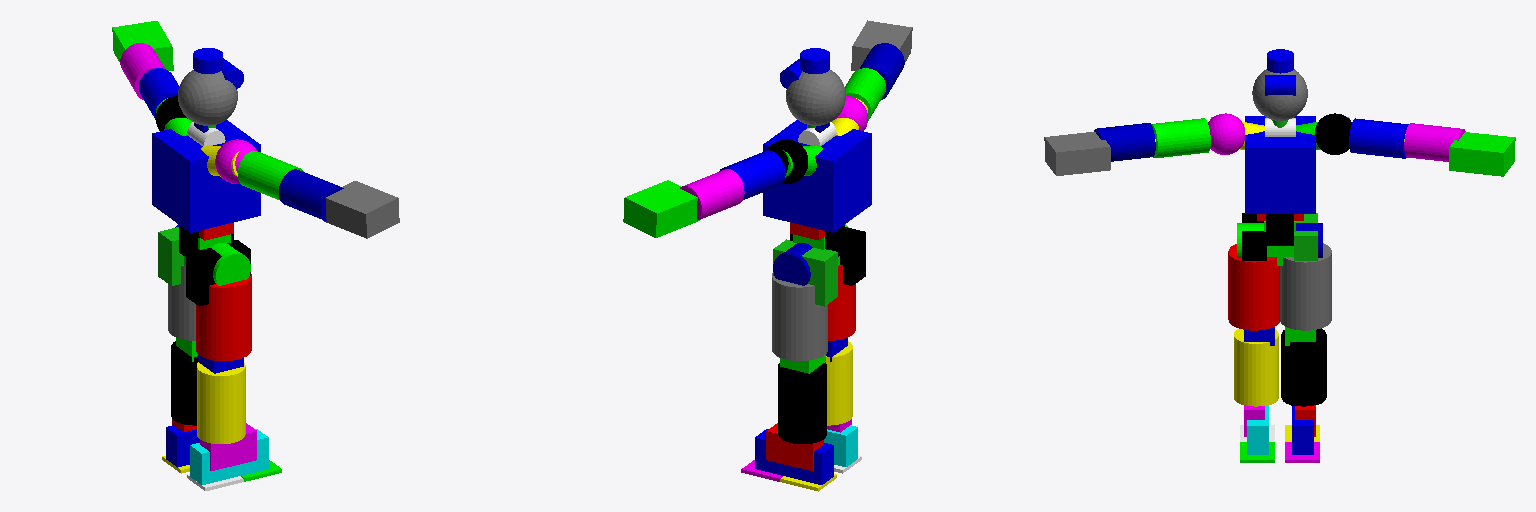
--- What the picture shows (computed from the rendered views, not written in the file) ---
Views: 3 orthographic renders of the robot side by side, from view 1: azimuth 30°, elevation 25°; view 2: azimuth 150°, elevation 25°; view 3: azimuth 270°, elevation 25°.
Model stickBot with 48 links and 47 joints (34 revolute, 13 fixed), rooted at root_link, posed all joints at 0 but 2 set to mid-range because 0 is outside their limits (r_shoulder_roll = 1.5, l_shoulder_roll = 1.5).
Links seen in each view (by area): view 1: chest, r_hip_3, r_lower_leg, r_hand, head, r_forearm, l_lower_leg, r_ankle_2, r_upper_arm, r_hip_2, l_hand, l_hip_3 (+10 smaller); view 2: chest, l_hip_3, l_lower_leg, l_hand, head, l_forearm, r_lower_leg, l_upper_arm, l_ankle_2, l_hip_2, r_hand, r_hip_3 (+10 smaller); view 3: chest, l_hip_3, r_hip_3, l_lower_leg, r_lower_leg, l_hand, r_hand, r_upper_arm, l_upper_arm, l_forearm, r_forearm, head (+9 smaller).
Link boxes in pixels (<box>): chest: <box>152,120,260,232</box>; r_hip_3: <box>196,274,251,360</box>; r_lower_leg: <box>197,362,245,443</box>; r_hand: <box>323,181,399,238</box>; head: <box>178,70,237,125</box>; r_forearm: <box>279,169,343,220</box>; l_lower_leg: <box>171,341,197,425</box>; r_ankle_2: <box>190,429,268,484</box>; r_upper_arm: <box>238,151,303,199</box>; r_hip_2: <box>186,240,250,306</box>; l_hand: <box>112,21,173,70</box>; l_hip_3: <box>168,265,195,340</box>; chest: <box>763,120,871,232</box>; l_hip_3: <box>772,273,827,360</box>; l_lower_leg: <box>778,362,826,443</box>; l_hand: <box>623,180,699,237</box>; head: <box>786,70,845,125</box>; l_forearm: <box>680,169,744,220</box>; r_lower_leg: <box>826,341,852,425</box>; l_upper_arm: <box>719,150,785,199</box>; l_ankle_2: <box>755,429,833,484</box>; l_hip_2: <box>773,239,837,306</box>; r_hand: <box>851,20,912,70</box>; r_hip_3: <box>828,265,855,340</box>; chest: <box>1245,116,1315,213</box>; l_hip_3: <box>1280,243,1331,330</box>; r_hip_3: <box>1228,244,1279,330</box>; l_lower_leg: <box>1281,328,1326,406</box>; r_lower_leg: <box>1234,329,1278,406</box>; l_hand: <box>1449,132,1515,176</box>; r_hand: <box>1044,132,1110,175</box>; r_upper_arm: <box>1151,118,1210,157</box>; l_upper_arm: <box>1349,118,1408,158</box>; l_forearm: <box>1404,123,1465,161</box>; r_forearm: <box>1094,123,1155,161</box>; head: <box>1252,69,1307,120</box>.
Size in the robot's own frame: 0.3324 by 1.35 by 1.22 metres.
Geometry: primitives only (box / cylinder / sphere), no mesh files.

robot.urdf — stickBot:
<?xml version='1.0' encoding='UTF-8'?>
<robot name="stickBot">
  <link name="root_link">
    <inertial>
      <origin xyz="0.0 0.0 0.0" rpy="0.0 0.0 -1.5707963267948966"/>
      <mass value="2.52649319"/>
        <inertia ixx="0.00521045" ixy="0.0" ixz="0.0" iyy="0.00480382" iyz="0.0" izz="0.00197587"/>
      <!--TODO: Real inertia for this link is 0.01 but this makes model unusable-->
      <!--remove when https://github.com/icub-tech-iit/ergocub-gazebo-simulations/issues/18 is fixed -->
    </inertial>
    <visual>
      <geometry>
        <box size="0.093 0.095 0.142"/>
      </geometry>
      <material name="green"/>
      <origin xyz="0.0 0.0 0.0" rpy="0.0 0.0 -1.5707963267948966"/>
    </visual>
  </link>
  <link name="torso_1">
    <inertial>
      <origin xyz="0.0 0.0 0.075" rpy="0.0 0.0 -1.5707963267948966"/>
      <mass value="1.714262538"/>
      <inertia ixx="0.00454797" ixy="0.0" ixz="0.0" iyy="0.00385317" iyz="0.0" izz="0.00234368"/>
    </inertial>
    <visual>
      <geometry>
        <box size="0.081  0.124  0.1505"/>
      </geometry>
      <material name="black"/>
      <origin xyz="0.0 0.0 0.075" rpy="0.0 0.0 -1.5707963267948966"/>
    </visual>
  </link>
  <link name="torso_2">
    <inertial>
      <origin xyz="0.0 0.0 0.0669" rpy="0.0 0.0 -1.5707963267948966"/>
      <mass value="1.374672951"/>
      <inertia ixx="0.00313349" ixy="0.0" ixz="0.0" iyy="0.00306132" iyz="0.0" izz="0.00130449"/>
    </inertial>
    <visual>
      <geometry>
        <box size="0.1356 0.0897 0.1338"/>
      </geometry>
      <material name="red"/>
      <origin xyz="0.0 0.0 0.0669" rpy="0.0 0.0 -1.5707963267948966"/>
    </visual>
  </link>
  <link name="chest">
    <inertial>
      <origin xyz="0.0 0.0 0.09138800000000014" rpy="0.0 0.0 -1.5707963267948966"/>
      <mass value="5.771074695"/>
      <inertia ixx="0.0433194564569098" ixy="0.0" ixz="0.0" iyy="0.04108113070876732" iyz="0.0" izz="0.042305752759046314"/>
    </inertial>
    <visual>
      <geometry>
        <box size="0.2041 0.2152 0.2092"/>
      </geometry>
      <material name="blue"/>
      <origin xyz="0.0 0.0 0.09138800000000014" rpy="0.0 0.0 -1.5707963267948966"/>
    </visual>
  </link>
  <link name="r_shoulder_1">
    <inertial>
      <origin xyz="0.0 -0.07445 0.0" rpy="-0.19999999999999998 1.5549999999999993 -1.840815419889917"/>
      <mass value="1.380716446"/>
     <inertia ixx="0.00801977" ixy="0.0" ixz="0.0" iyy="0.00801977" iyz="0.0" izz="0.01104573"/>
    </inertial>
    <visual>
      <geometry>
        <cylinder radius="0.04" length="0.1569"/>
      </geometry>
      <material name="yellow"/>
      <origin xyz="0.0 -0.07445 0.0" rpy="-0.19999999999999998 1.5549999999999993 -1.840815419889917"/>
    </visual>
  </link>
  <link name="r_shoulder_2">
    <inertial>
      <origin xyz="0.0 0.0 0.0" rpy="-0.07156446033079357 0.06196992338505823 -1.8462350402422587"/>
      <mass value="0.304658373"/>
       <inertia ixx="0.00219234" ixy="0.0" ixz="0.0" iyy="0.00219234" iyz="0.0" izz="0.00219234"/>
    </inertial>
    <visual>
      <geometry>
        <sphere radius="0.06"/>
      </geometry>
      <material name="pink"/>
      <origin xyz="0.0 0.0 0.0" rpy="-0.07156446033079357 0.06196992338505823 -1.8462350402422587"/>
    </visual>
  </link>
  <link name="r_shoulder_3">
    <inertial>
      <origin xyz="0.0 0.0 -0.01" rpy="-0.07156446033079357 0.06196992338505823 -1.8462350402422587"/>
      <mass value="0.24467077"/>
      <inertia ixx="0.00012128" ixy="0.0" ixz="0.0" iyy="0.00012128" iyz="0.0" izz="0.00018465"/>
    </inertial>
    <visual>
      <geometry>
        <cylinder radius="0.03" length="0.03"/>
      </geometry>
      <material name="cyan"/>
      <origin xyz="0.0 0.0 -0.01" rpy="-0.07156446033079357 0.06196992338505823 -1.8462350402422587"/>
    </visual>
  </link>
  <link name="r_upper_arm">
    <inertial>
      <origin xyz="0.0 0.0 -0.05705" rpy="0.0 0.0 -1.8462350402422587"/>
      <mass value="1.960447492"/>
       <inertia ixx="0.01289611" ixy="0.0" ixz="0.0" iyy="0.01289611" iyz="0.0" izz="0.02451059"/>
    </inertial>
    <visual>
      <geometry>
        <cylinder radius="0.05" length="0.1581"/>
      </geometry>
      <material name="green"/>
      <origin xyz="0.0 0.0 -0.05705" rpy="0.0 0.0 -1.8462350402422587"/>
    </visual>
  </link>
  <link name="r_elbow_1">
    <inertial>
      <origin xyz="-0.02 0.0 -0.02" rpy="-0.07156446033079357 0.06196992338505823 -1.8462350402422587"/>
      <mass value="0.217609341"/>
       <inertia ixx="0.00104253" ixy="0.0" ixz="0.0" iyy="0.00104253" iyz="0.0" izz="0.00104253"/>
    </inertial>
    <visual>
      <geometry>
        <sphere radius="0.04"/>
      </geometry>
      <material name="white"/>
      <origin xyz="-0.02 0.0 -0.02" rpy="-0.07156446033079357 0.06196992338505823 -1.8462350402422587"/>
    </visual>
  </link>
  <link name="r_forearm">
    <inertial>
      <origin xyz="-0.005 0.0 -0.04001" rpy="0.0 0.0 -1.8462350402422587"/>
      <mass value="0.854281652"/>
       <inertia ixx="0.00561851" ixy="0.0" ixz="0.0" iyy="0.00561851" iyz="0.0" izz="0.00700827"/>
    </inertial>
    <visual>
      <geometry>
        <cylinder radius="0.05" length="0.1581"/>
      </geometry>
      <material name="dblue"/>
      <origin xyz="-0.005 0.0 -0.04001" rpy="0.0 0.0 -1.8462350402422587"/>
    </visual>
    <collision>
      <geometry>
        <cylinder radius="0.05" length="0.1581"/>
      </geometry>
      <origin xyz="-0.005 0.0 -0.04001" rpy="0.0 0.0 -1.8462350402422587"/>
    </collision>
  </link>
  <link name="r_wrist_1">
    <inertial>
      <origin xyz="-0.015 0.0 0.0" rpy="3.0700281932589997 1.3345926535897934 0.11659265358979323"/>
      <mass value="0.032535096"/>
      <inertia ixx="0.00000183" ixy="0.0" ixz="0.0" iyy="0.00000183" iyz="0.0" izz="0.00000277"/>
    </inertial>
    <visual>
      <geometry>
        <cylinder radius="0.011" length="0.04"/>
      </geometry>
      <material name="dgreen"/>
      <origin xyz="-0.015 0.0 0.0" rpy="3.0700281932589997 1.3345926535897934 0.11659265358979323"/>
    </visual>
  </link>
  <link name="r_hand">
    <inertial>
      <origin xyz="0.025 0.0 -0.08105" rpy="0.0 0.0 0.0"/>
      <mass value="0.2499009"/>
      <inertia ixx="0.00069263" ixy="0.0" ixz="0.0" iyy="0.00026036" iyz="0.0" izz="0.00062386"/>
    </inertial>
    <visual>
      <geometry>
        <box size="0.124  0.0736 0.1621"/>
      </geometry>
      <material name="gray"/>
      <origin xyz="0.025 0.0 -0.08105" rpy="0.0 0.0 0.0"/>
    </visual>
    <collision>
      <geometry>
        <box size="0.124  0.0736 0.1621"/>
      </geometry>
      <origin xyz="0.025 0.0 -0.08105" rpy="0.0 0.0 0.0"/>
    </collision>
  </link>
  <link name="l_shoulder_1">
    <inertial>
      <origin xyz="0.0 0.07445 0.0" rpy="0.19999999999999998 1.5549999999999993 1.840815419889917"/>
      <mass value="1.376687449"/>
     <inertia ixx="0.00800231" ixy="0.0" ixz="0.0" iyy="0.00800231" iyz="0.0" izz="0.01082292"/>
    </inertial>
    <visual>
      <geometry>
        <cylinder radius="0.04" length="0.1569"/>
      </geometry>
      <material name="green"/>
      <origin xyz="0.0 0.07445 0.0" rpy="0.19999999999999998 1.5549999999999993 1.840815419889917"/>
    </visual>
  </link>
  <link name="l_shoulder_2">
    <inertial>
      <origin xyz="0.0 0.0 0.0" rpy="-0.07156449498805928 -0.06196998841864677 -1.2953574498236577"/>
      <mass value="0.304658373"/>
      <inertia ixx="0.00219234" ixy="0.0" ixz="0.0" iyy="0.00219234" iyz="0.0" izz="0.00219234"/>
    </inertial>
    <visual>
      <geometry>
        <sphere radius="0.06"/>
      </geometry>
      <material name="black"/>
      <origin xyz="0.0 0.0 0.0" rpy="-0.07156449498805928 -0.06196998841864677 -1.2953574498236577"/>
    </visual>
  </link>
  <link name="l_shoulder_3">
    <inertial>
      <origin xyz="0.0 0.0 -0.01" rpy="-0.07156449498805928 -0.06196998841864677 -1.2953574498236577"/>
      <mass value="0.242239185"/>
      <inertia ixx="0.00012128" ixy="0.0" ixz="0.0" iyy="0.00012128" iyz="0.0" izz="0.00018465"/>
    </inertial>
    <visual>
      <geometry>
        <cylinder radius="0.03" length="0.03"/>
      </geometry>
      <material name="red"/>
      <inertia ixx="0.00012128" ixy="0.0" ixz="0.0" iyy="0.00012128" iyz="0.0" izz="0.00018465"/>
    </visual>
  </link>
  <link name="l_upper_arm">
    <inertial>
      <origin xyz="0.0 0.0 -0.05705" rpy="0.0 0.0 -1.2953574498236577"/>
      <mass value="1.968325789"/>
      <inertia ixx="0.01289611" ixy="0.0" ixz="0.0" iyy="0.01289611" iyz="0.0" izz="0.02451059"/>
    </inertial>
    <visual>
      <geometry>
        <cylinder radius="0.05" length="0.1581"/>
      </geometry>
      <material name="blue"/>
      <origin xyz="0.0 0.0 -0.05705" rpy="0.0 0.0 -1.2953574498236577"/>
    </visual>
  </link>
  <link name="l_elbow_1">
    <inertial>
      <origin xyz="-0.02 0.0 -0.02" rpy="-0.07156449498805928 -0.06196998841864677 -1.2953574498236577"/>
      <mass value="0.217768231"/>
      <inertia ixx="0.00104253" ixy="0.0" ixz="0.0" iyy="0.00104253" iyz="0.0" izz="0.00104253"/>
    </inertial>
    <visual>
      <geometry>
        <sphere radius="0.04"/>
      </geometry>
      <material name="yellow"/>
      <origin xyz="-0.02 0.0 -0.02" rpy="-0.07156449498805928 -0.06196998841864677 -1.2953574498236577"/>
    </visual>
  </link>
  <link name="l_forearm">
    <inertial>
      <origin xyz="-0.005 0.0 -0.04001" rpy="0.0 0.0 -1.2953574498236577"/>
      <mass value="0.858696525"/>
      <inertia ixx="0.00561851" ixy="0.0" ixz="0.0" iyy="0.00561851" iyz="0.0" izz="0.00700827"/>
    </inertial>
    <visual>
      <geometry>
        <cylinder radius="0.05" length="0.1581"/>
      </geometry>
      <material name="pink"/>
      <origin xyz="-0.005 0.0 -0.04001" rpy="0.0 0.0 -1.2953574498236577"/>
    </visual>
    <collision>
      <geometry>
        <cylinder radius="0.05" length="0.1581"/>
      </geometry>
      <origin xyz="-0.005 0.0 -0.04001" rpy="0.0 0.0 -1.2953574498236577"/>
    </collision>
  </link>
  <link name="l_wrist_1">
    <inertial>
      <origin xyz="-0.015 0.0 0.0" rpy="3.0700281932589997 1.3345926535897934 0.11659265358979323"/>
      <mass value="0.032535096"/>
      <inertia ixx="0.00000183" ixy="0.0" ixz="0.0" iyy="0.00000183" iyz="0.0" izz="0.00000277"/>
    </inertial>
    <visual>
      <geometry>
        <cylinder radius="0.011" length="0.04"/>
      </geometry>
      <material name="cyan"/>
      <origin xyz="-0.015 0.0 0.0" rpy="3.0700281932589997 1.3345926535897934 0.11659265358979323"/>
    </visual>
  </link>
  <link name="l_hand">
    <inertial>
      <origin xyz="0.025 0.0 -0.08105" rpy="0.0 0.0 0.0"/>
      <mass value="0.249250207"/>
      <inertia ixx="0.00069263" ixy="0.0" ixz="0.0" iyy="0.00026036" iyz="0.0" izz="0.00062386"/>
    </inertial>
    <visual>
      <geometry>
        <box size="0.124  0.0736 0.1621"/>
      </geometry>
      <material name="green"/>
      <origin xyz="0.025 0.0 -0.08105" rpy="0.0 0.0 0.0"/>
    </visual>
    <collision>
      <geometry>
        <box size="0.124  0.0736 0.1621"/>
      </geometry>
      <origin xyz="0.025 0.0 -0.08105" rpy="0.0 0.0 0.0"/>
    </collision>
  </link>


  <link name="neck_1">
    <inertial>
      <origin xyz="0.004 0.0 0.03500000000000002" rpy="-1.5707963267948968 0.0 0.0"/>
      <mass value="0.359964395"/>
     <inertia ixx="0.000360" ixy="0.0" ixz="0.0" iyy="0.000360" iyz="0.0" izz="0.000360"/>
    </inertial>
    <visual>
      <geometry>
        <cylinder radius="0.033" length="0.089"/>
      </geometry>
      <material name="white"/>
      <origin xyz="0.004 0.0 0.03500000000000002" rpy="-1.5707963267948968 0.0 0.0"/>
    </visual>
  </link>
  <link name="neck_2">
    <inertial>
      <origin xyz="-0.02 0.0 0.015" rpy="-1.5707963267948968 0.0 -1.5707963267948968"/>
      <mass value="0.118740971"/>
       <inertia ixx="0.00007" ixy="0.0" ixz="0.0" iyy="0.00007" iyz="0.0" izz="0.00007"/>
    </inertial>
    <visual>
      <geometry>
        <cylinder radius="0.027" length="0.013"/>
      </geometry>
      <material name="dblue"/>
      <origin xyz="-0.02 0.0 0.015" rpy="-1.5707963267948968 0.0 -1.5707963267948968"/>
    </visual>
  </link>
  <link name="neck_3">
    <inertial>
      <origin xyz="0.0 0.0 0.028" rpy="0.0 0.0 -1.5707963267948968"/>
      <mass value="0.179822835"/>
      <inertia ixx="0.00017" ixy="0.0" ixz="0.0" iyy="0.00017" iyz="0.0" izz="0.00017"/>
    </inertial>
    <visual>
      <geometry>
        <cylinder radius="0.0225" length="0.09"/>
      </geometry>
      <material name="dgreen"/>
      <origin xyz="0.0 0.0 0.028" rpy="0.0 0.0 -1.5707963267948968"/>
    </visual>
  </link>
  <link name="head">
    <inertial>
      <origin xyz="0.0 0.0 0.025" rpy="-1.5707963267948966 0.0 -1.5707963267948966"/>
      <mass value="1.831737118"/>
      <inertia ixx="0.02344" ixy="0.0" ixz="0.0" iyy="0.02344" iyz="0.0" izz="0.02344"/>
    </inertial>
    <visual>
      <geometry>
        <sphere radius="0.08"/>
      </geometry>
      <material name="gray"/>
      <origin xyz="0.0 0.0 0.025" rpy="-1.5707963267948966 0.0 -1.5707963267948966"/>
    </visual>
  </link>


  <link name="camera_tilt">
    <inertial>
      <origin xyz="0.0 0.0 0.0" rpy="0.0 0.0 0.0"/>
      <mass value="0.06"/>
     <inertia ixx="0.000045" ixy="0.0" ixz="0.0" iyy="0.000045" iyz="0.0" izz="0.000027"/>
    </inertial>
    <visual>
      <geometry>
        <cylinder radius="0.03" length="0.09"/>
      </geometry>
      <material name="blue"/>
      <origin xyz="0.0 0.0 0.0" rpy="0.0 0.0 0.0"/>
    </visual>
  </link>
  <link name="lidar">
    <inertial>
      <origin xyz="0.0 0.0 0.17" rpy="0.0 0.0 0.0"/>
      <mass value="0.2"/>
       <inertia ixx="0.0000586667" ixy="0.0" ixz="0.0" iyy="0.0000586667" iyz="0.0" izz="0.0000586667"/>
    </inertial>
    <visual>
      <geometry>
        <cylinder radius="0.04" length="0.04"/>
      </geometry>
      <material name="blue"/>
      <origin xyz="0.0 0.0 0.0" rpy="0.0 0.0 0.0"/>
    </visual>
  </link>

  <link name="r_hip_1">
    <inertial>
      <origin xyz="-0.01 -0.041826 -0.01" rpy="1.5707963267948966 1.5707963267948966 0.0"/>
      <mass value="2.134290199"/>
      <inertia ixx="0.00277084" ixy="0.0" ixz="0.0" iyy="0.00277084" iyz="0.0" izz="0.003059497"/>
    </inertial>
    <visual>
      <geometry>
        <cylinder radius="0.0535" length="0.083652"/>
      </geometry>
      <material name="green"/>
      <origin xyz="-0.01 -0.041826 -0.01" rpy="1.5707963267948966 1.5707963267948966 0.0"/>
    </visual>
  </link>

  <link name="r_hip_2">
    <inertial>
      <origin xyz="0.02 0.0 -0.02" rpy="0.0 0.0 -1.5707963267948966"/>
      <mass value="1.779000764"/>
       <inertia ixx="0.002496" ixy="0.0" ixz="0.0" iyy="0.001657" iyz="0.0" izz="0.00148"/>
    </inertial>
    <visual>
      <geometry>
        <box size="0.0702 0.1578 0.1315"/>
      </geometry>
      <material name="black"/>
      <origin xyz="0.02 0.0 -0.02" rpy="0.0 0.0 -1.5707963267948966"/>
    </visual>
  </link>

  <link name="r_hip_3">
    <inertial>
      <origin xyz="0.0 0.0 -0.049999999999999996" rpy="0.0 0.0 -1.5707963267948966"/>
      <mass value="2.1678368"/>
   <inertia ixx="0.0115" ixy="0.0" ixz="0.0" iyy="0.0115" iyz="0.0" izz="0.0061"/>
    </inertial>
    <visual>
      <geometry>
        <cylinder radius="0.075" length="0.216"/>
      </geometry>
      <material name="red"/>
      <origin xyz="0.0 0.0 -0.049999999999999996" rpy="0.0 0.0 -1.5707963267948966"/>
    </visual>
  </link>

  <link name="r_upper_leg">
    <inertial>
      <origin xyz="0.0 0.0 -0.07" rpy="-1.5707963267948966 0.0 0.0"/>
      <mass value="0.980691904"/>
      <inertia ixx="0.0009" ixy="0.0" ixz="0.0" iyy="0.0013" iyz="0.0" izz="0.0013"/>
    </inertial>
    <visual>
      <geometry>
        <box size="0.0908 0.1598 0.0878"/>
      </geometry>
      <material name="blue"/>
      <origin xyz="0.0 0.0 -0.07" rpy="-1.5707963267948966 0.0 0.0"/>
    </visual>
  </link>

  <link name="r_lower_leg">
    <inertial>
      <origin xyz="-0.02 0.015 -0.13" rpy="0.0 0.0 -1.5707963267948966"/>
      <mass value="5.074105512"/>
      <inertia ixx="0.022273208987050007" ixy="0.0" ixz="0.0" iyy="0.022273208987050007" iyz="0.0" izz="0.010719047894100001"/>
    </inertial>
    <visual>
      <geometry>
        <cylinder radius="0.065" length="0.2"/>
      </geometry>
      <material name="yellow"/>
      <origin xyz="-0.02 0.015 -0.13" rpy="0.0 0.0 -1.5707963267948966"/>
    </visual>
  </link>

  <link name="r_ankle_1">
    <inertial>
      <origin xyz="0.0 0.01 -0.015" rpy="0.0 1.5707963267948966 0.0"/>
      <mass value="0.346176903"/>
     <inertia ixx="0.0007" ixy="0.0" ixz="0.0" iyy="0.0003" iyz="0.0" izz="0.0003"/>
    </inertial>
    <visual>
      <geometry>
        <box size="0.085207  0.0601674 0.14254  "/>
      </geometry>
      <material name="pink"/>
      <origin xyz="0.0 0.01 -0.015" rpy="0.0 1.5707963267948966 0.0"/>
    </visual>
  </link>

  <link name="r_ankle_2">
    <inertial>
      <origin xyz="0.06 0.0 -0.014" rpy="0.0 1.5707963267948966 0.0"/>
      <mass value="1.00828013"/>
      <inertia ixx="0.0039" ixy="0.0" ixz="0.0" iyy="0.0043" iyz="0.0" izz="0.0011"/>
    </inertial>
    <visual>
      <geometry>
        <box size="0.0927 0.0634 0.2055"/>
      </geometry>
      <material name="cyan"/>
      <origin xyz="0.06 0.0 -0.014" rpy="0.0 1.5707963267948966 0.0"/>
    </visual>
  </link>

  <link name="r_foot_front">
    <inertial>
      <origin xyz="0.0 0.0 0.0" rpy="0.0 0.0 -1.5707963267948966"/>
      <mass value="0.17569926"/>
      <inertia ixx="0.0002" ixy="0.0" ixz="0.0" iyy="0.0001" iyz="0.0" izz="0.0003"/>
    </inertial>
    <visual>
      <geometry>
        <box size="0.1    0.117  0.0103"/>
      </geometry>
      <material name="green"/>
      <origin xyz="0.0 0.0 0.0" rpy="0.0 0.0 -1.5707963267948966"/>
    </visual>
    <collision>
      <geometry>
        <box size="0.1    0.117  0.0103"/>
      </geometry>
      <origin xyz="0.0 0.0 0.0" rpy="0.0 0.0 -1.5707963267948966"/>
    </collision>
  </link>

  <link name="r_foot_rear">
    <inertial>
      <origin xyz="0.0 0.0 0.0" rpy="0.0 0.0 -1.5707963267948966"/>
      <mass value="0.174817799"/>
       <inertia ixx="0.0002" ixy="0.0" ixz="0.0" iyy="0.0001" iyz="0.0" izz="0.0003"/>
    </inertial>
    <visual>
      <geometry>
        <box size="0.1    0.117  0.0103"/>
      </geometry>
      <material name="white"/>
      <origin xyz="0.0 0.0 0.0" rpy="0.0 0.0 -1.5707963267948966"/>
    </visual>
    <collision>
      <geometry>
        <box size="0.1    0.117  0.0103"/>
      </geometry>
      <origin xyz="0.0 0.0 0.0" rpy="0.0 0.0 -1.5707963267948966"/>
    </collision>
  </link>

  <link name="l_hip_1">
    <inertial>
      <origin xyz="-0.01 0.041826 -0.01" rpy="1.5707963267948966 1.5707963267948966 0.0"/>
      <mass value="2.108461113"/>
      <inertia ixx="0.00277084" ixy="0.0" ixz="0.0" iyy="0.00277084" iyz="0.0" izz="0.003059497"/>
    </inertial>
    <visual>
      <geometry>
        <cylinder radius="0.0535" length="0.083652"/>
      </geometry>
      <material name="dblue"/>
      <origin xyz="-0.01 0.041826 -0.01" rpy="1.5707963267948966 1.5707963267948966 0.0"/>
    </visual>
  </link>

  <link name="l_hip_2">
    <inertial>
      <origin xyz="0.02 0.0 -0.02" rpy="0.0 0.0 -1.5707963267948966"/>
      <mass value="1.781270621"/>
       <inertia ixx="0.002496" ixy="0.0" ixz="0.0" iyy="0.001657" iyz="0.0" izz="0.00148"/>
    </inertial>
    <visual>
      <geometry>
        <box size="0.0702 0.1578 0.1315"/>
      </geometry>
      <material name="dgreen"/>
      <origin xyz="0.02 0.0 -0.02" rpy="0.0 0.0 -1.5707963267948966"/>
    </visual>
  </link>

  <link name="l_hip_3">
    <inertial>
      <origin xyz="0.0 0.0 -0.049999999999999996" rpy="0.0 0.0 -1.5707963267948966"/>
      <mass value="2.169151426"/>
     <inertia ixx="0.0115" ixy="0.0" ixz="0.0" iyy="0.0115" iyz="0.0" izz="0.0061"/>
    </inertial>
    <visual>
      <geometry>
        <cylinder radius="0.075" length="0.216"/>
      </geometry>
      <material name="gray"/>
      <origin xyz="0.0 0.0 -0.049999999999999996" rpy="0.0 0.0 -1.5707963267948966"/>
    </visual>
  </link>

  <link name="l_upper_leg">
    <inertial>
      <origin xyz="0.0 0.0 -0.07" rpy="-1.5707963267948966 0.0 0.0"/>
      <mass value="0.968264435"/>
      <inertia ixx="0.0009" ixy="0.0" ixz="0.0" iyy="0.0013" iyz="0.0" izz="0.0013"/>
    </inertial>
    <visual>
      <geometry>
        <box size="0.0908 0.1598 0.0878"/>
      </geometry>
      <material name="green"/>
      <origin xyz="0.0 0.0 -0.07" rpy="-1.5707963267948966 0.0 0.0"/>
    </visual>
  </link>
  <link name="l_lower_leg">
    <inertial>
      <origin xyz="-0.02 -0.015 -0.13" rpy="0.0 0.0 -1.5707963267948966"/>
      <mass value="5.063049414"/>
      <inertia ixx="0.022224677323537508" ixy="0.0" ixz="0.0" iyy="0.022224677323537508" iyz="0.0" izz="0.010695691887075"/>
    </inertial>
    <visual>
      <geometry>
        <cylinder radius="0.065" length="0.2"/>
      </geometry>
      <material name="black"/>
      <origin xyz="-0.02 -0.015 -0.13" rpy="0.0 0.0 -1.5707963267948966"/>
    </visual>
  </link>
  <link name="l_ankle_1">
    <inertial>
      <origin xyz="0.0 -0.01 -0.015" rpy="0.0 1.5707963267948966 0.0"/>
      <mass value="0.3461769035"/>
      <inertia ixx="0.0007" ixy="0.0" ixz="0.0" iyy="0.0003" iyz="0.0" izz="0.0003"/>
    </inertial>
    <visual>
      <geometry>
        <box size="0.085207  0.0601674 0.14254  "/>
      </geometry>
      <material name="red"/>
      <origin xyz="0.0 -0.01 -0.015" rpy="0.0 1.5707963267948966 0.0"/>
    </visual>
  </link>
  <link name="l_ankle_2">
    <inertial>
      <origin xyz="0.06 0.0 -0.014" rpy="0.0 1.5707963267948966 0.0"/>
      <mass value="1.011533592"/>
      <inertia ixx="0.0039" ixy="0.0" ixz="0.0" iyy="0.0043" iyz="0.0" izz="0.0011"/>
    </inertial>
    <visual>
      <geometry>
        <box size="0.0927 0.0634 0.2055"/>
      </geometry>
      <material name="blue"/>
      <origin xyz="0.06 0.0 -0.014" rpy="0.0 1.5707963267948966 0.0"/>
    </visual>
  </link>
  <link name="l_foot_rear">
    <inertial>
      <origin xyz="0.0 0.0 0.0" rpy="0.0 0.0 -1.5707963267948966"/>
      <mass value="0.174597434"/>
      <inertia ixx="0.0002" ixy="0.0" ixz="0.0" iyy="0.0001" iyz="0.0" izz="0.0003"/>
    </inertial>
    <visual>
      <geometry>
        <box size="0.1    0.117  0.0103"/>
      </geometry>
      <material name="yellow"/>
      <origin xyz="0.0 0.0 0.0" rpy="0.0 0.0 -1.5707963267948966"/>
    </visual>
    <collision>
      <geometry>
        <box size="0.1    0.117  0.0103"/>
      </geometry>
      <origin xyz="0.0 0.0 0.0" rpy="0.0 0.0 -1.5707963267948966"/>
    </collision>
  </link>
  <link name="l_foot_front">
    <inertial>
      <origin xyz="0.0 0.0 0.0" rpy="0.0 0.0 -1.5707963267948966"/>
      <mass value="0.175038164"/>
      <inertia ixx="0.0002" ixy="0.0" ixz="0.0" iyy="0.0001" iyz="0.0" izz="0.0003"/>
    </inertial>
    <visual>
      <geometry>
        <box size="0.1    0.117  0.0103"/>
      </geometry>
      <material name="pink"/>
      <origin xyz="0.0 0.0 0.0" rpy="0.0 0.0 -1.5707963267948966"/>
    </visual>
    <collision>
      <geometry>
        <box size="0.1    0.117  0.0103"/>
      </geometry>
      <origin xyz="0.0 0.0 0.0" rpy="0.0 0.0 -1.5707963267948966"/>
    </collision>
  </link>
  <link name="base_link"/>
  <link name="l_sole"/>
  <link name="r_sole"/>
  <link name="imu_frame"/>
  <joint name="torso_roll" type="revolute">
    <dynamics damping="2.0" friction="0.0"/>
    <limit effort="50000.0" velocity="120.0" lower="-0.4014257279586958" upper="0.4014257279586958"/>
    <parent link="root_link"/>
    <child link="torso_1"/>
    <axis xyz="-1.  0.  0."/>
    <origin xyz="0.0 0.0 0.0" rpy="0.0 0.0 0.0"/>
  </joint>
  <joint name="torso_pitch" type="revolute">
    <dynamics damping="2.0" friction="0.0"/>
    <limit effort="50000.0" velocity="120.0" lower="-0.3141592653589793" upper="0.7853981633974483"/>
    <parent link="torso_1"/>
    <child link="torso_2"/>
    <axis xyz="0. 1. 0."/>
    <origin xyz="0.0 0.0 0.0725" rpy="0.0 0.0 0.0"/>
  </joint>
  <joint name="torso_yaw" type="revolute">
    <dynamics damping="2.0" friction="0.0"/>
    <limit effort="50000.0" velocity="120.0" lower="-0.7504915783575618" upper="0.7504915783575618"/>
    <parent link="torso_2"/>
    <child link="chest"/>
    <axis xyz=" 0.  0. -1."/>
    <origin xyz="0.0 0.0 0.06447" rpy="0.0 0.0 0.0"/>
  </joint>
  <joint name="r_shoulder_pitch" type="revolute">
    <dynamics damping="2.0" friction="0.0"/>
    <limit effort="50000.0" velocity="120.0" lower="-1.53588974175501" upper="0.22689280275926285"/>
    <parent link="chest"/>
    <child link="r_shoulder_1"/>
    <axis xyz="0. 1. 0."/>
    <origin xyz="-0.03 -0.055555 0.163" rpy="-0.25326164431680925 0.0 0.26179970938509745"/>
  </joint>
  <joint name="r_shoulder_roll" type="revolute">
    <dynamics damping="2.0" friction="0.0"/>
    <limit effort="50000.0" velocity="120.0" lower="0.20943951023931956" upper="2.792526803190927"/>
    <parent link="r_shoulder_1"/>
    <child link="r_shoulder_2"/>
    <axis xyz="-1.00000000e+00  4.21050217e-08  2.46304855e-08"/>
    <origin xyz="0.007489008185044645 -0.11150041046657978 0.0004027858966975245" rpy="0.17453306234069357 -0.053747792579130614 0.0"/>
  </joint>
  <joint name="r_arm_ft_sensor" type="fixed">
    <dynamics damping="0.1"/>
    <parent link="r_shoulder_2"/>
    <child link="r_shoulder_3"/>
    <axis xyz="1. 0. 0."/>
    <origin xyz="-0.006849946385389875 2.1904996055921444e-07 -0.05429998157789099" rpy="0.0 0.0 0.0"/>
  </joint>
  <joint name="r_shoulder_yaw" type="revolute">
    <dynamics damping="2.0" friction="0.0"/>
    <limit effort="50000.0" velocity="120.0" lower="-0.8726646259971648" upper="1.3962634015954636"/>
    <parent link="r_shoulder_3"/>
    <child link="r_upper_arm"/>
    <axis xyz="-3.78762082e-08  2.80519699e-08  1.00000000e+00"/>
    <origin xyz="0.0 4.2183273077367467e-07 -0.022499941373153573" rpy="0.0 0.0 0.0"/>
  </joint>
  <joint name="r_elbow" type="revolute">
    <dynamics damping="2.0" friction="0.0"/>
    <limit effort="50000.0" velocity="120.0" lower="-0.05235987755982989" upper="1.3089969389957472"/>
    <parent link="r_upper_arm"/>
    <child link="r_elbow_1"/>
    <axis xyz=" 2.49495760e-07 -1.00000000e+00  2.79424794e-08"/>
    <origin xyz="0.009999931922603816 0.0014996401320274133 -0.12369999999999999" rpy="0.0 0.0 0.0"/>
  </joint>
  <joint name="r_wrist_prosup" type="revolute">
    <dynamics damping="2.0" friction="0.0"/>
    <limit effort="50000.0" velocity="120.0" lower="-1.53588974175501" upper="1.53588974175501"/>
    <parent link="r_elbow_1"/>
    <child link="r_forearm"/>
    <axis xyz="-3.78762082e-08  2.80519699e-08  1.00000000e+00"/>
    <origin xyz="-0.014999869468812953 -0.001999649905318951 -0.05530006367251966" rpy="0.0 0.0 0.0"/>
  </joint>
  <joint name="r_wrist_pitch" type="revolute">
    <dynamics damping="2.0" friction="0.0"/>
    <limit effort="50000.0" velocity="120.0" lower="-1.2217304763960306" upper="0.4363323129985824"/>
    <parent link="r_forearm"/>
    <child link="r_wrist_1"/>
    <axis xyz=" 1.00000000e+00 -4.21050217e-08 -2.46304855e-08"/>
    <origin xyz="0.016299953353948633 -0.002007442890811839 -0.10749999999999998" rpy="0.0 0.0 0.0"/>
  </joint>
  <joint name="r_wrist_yaw" type="revolute">
    <dynamics damping="2.0"/>
    <limit effort="50000.0" velocity="120.0" lower="-0.2617993877991494" upper="0.6108652381980153"/>
    <parent link="r_wrist_1"/>
    <child link="r_hand"/>
    <axis xyz="-2.49495760e-07  1.00000000e+00 -2.79424794e-08"/>
    <origin xyz="-0.016300122874272734 0.0069993900510918194 0.0" rpy="0.0 0.0 0.0"/>
  </joint>
  <joint name="l_shoulder_pitch" type="revolute">
    <dynamics damping="2.0" friction="0.0"/>
    <limit effort="50000.0" velocity="120.0" lower="-1.53588974175501" upper="0.22689280275926285"/>
    <parent link="chest"/>
    <child link="l_shoulder_1"/>
    <axis xyz="0. 1. 0."/>
    <origin xyz="-0.03 0.055555 0.163" rpy="0.25326164431680925 0.0 -0.26179970938509745"/>
  </joint>
  <joint name="l_shoulder_roll" type="revolute">
    <dynamics damping="2.0" friction="0.0"/>
    <limit effort="50000.0" velocity="120.0" lower="0.20943951023931956" upper="2.792526803190927"/>
    <parent link="l_shoulder_1"/>
    <child link="l_shoulder_2"/>
    <axis xyz=" 1.00000000e+00  2.03482562e-07 -4.02302354e-08"/>
    <origin xyz="0.007489008185044645 0.11150041046657978 0.0004027858966975245" rpy="-0.17453306234069357 -0.053747792579130614 0.0"/>
  </joint>
  <joint name="l_arm_ft_sensor" type="fixed">
    <dynamics damping="0.1"/>
    <parent link="l_shoulder_2"/>
    <child link="l_shoulder_3"/>
    <axis xyz="1. 0. 0."/>
    <origin xyz="-0.004350133156978329 3.632573233880443e-07 -0.05430003872406172" rpy="0.0 0.0 0.0"/>
  </joint>
  <joint name="l_shoulder_yaw" type="revolute">
    <dynamics damping="2.0" friction="0.0"/>
    <limit effort="50000.0" velocity="120.0" lower="-0.8726646259971648" upper="1.3962634015954636"/>
    <parent link="l_shoulder_3"/>
    <child link="l_upper_arm"/>
    <axis xyz=" 2.22764683e-08 -4.39378512e-08 -1.00000000e+00"/>
    <origin xyz="0.0 -4.2345248449371375e-07 -0.02249994137312443" rpy="0.0 0.0 0.0"/>
  </joint>
  <joint name="l_elbow" type="revolute">
    <dynamics damping="2.0" friction="0.0"/>
    <limit effort="50000.0" velocity="120.0" lower="-0.05235987755982989" upper="1.3089969389957472"/>
    <parent link="l_upper_arm"/>
    <child link="l_elbow_1"/>
    <axis xyz="-8.81182175e-08 -1.00000000e+00  4.40473491e-08"/>
    <origin xyz="0.009999930234919404 -0.001499647423428896 -0.12369999999999999" rpy="0.0 0.0 0.0"/>
  </joint>
  <joint name="l_wrist_prosup" type="revolute">
    <dynamics damping="2.0" friction="0.0"/>
    <limit effort="50000.0" velocity="120.0" lower="-1.53588974175501" upper="1.53588974175501"/>
    <parent link="l_elbow_1"/>
    <child link="l_forearm"/>
    <axis xyz=" 2.22764683e-08 -4.39378512e-08 -1.00000000e+00"/>
    <origin xyz="-0.014999870654177704 0.0019996435036348514 -0.055300063582479825" rpy="0.0 0.0 0.0"/>
  </joint>
  <joint name="l_wrist_pitch" type="revolute">
    <dynamics damping="2.0" friction="0.0"/>
    <limit effort="50000.0" velocity="120.0" lower="-1.2217304763960306" upper="0.4363323129985824"/>
    <parent link="l_forearm"/>
    <child link="l_wrist_1"/>
    <axis xyz="-1.00000000e+00 -2.03482562e-07  4.02302354e-08"/>
    <origin xyz="0.016600015934286182 0.002006895218072541 -0.10749999999999998" rpy="0.0 0.0 0.0"/>
  </joint>
  <joint name="l_wrist_yaw" type="revolute">
    <dynamics damping="2.0" friction="0.0"/>
    <limit effort="50000.0" velocity="120.0" lower="-0.2617993877991494" upper="0.6108652381980153"/>
    <parent link="l_wrist_1"/>
    <child link="l_hand"/>
    <axis xyz=" 8.81182175e-08  1.00000000e+00 -4.40473491e-08"/>
    <origin xyz="-0.016300121744729387 -0.0069993926815711816 0.0" rpy="0.0 0.0 0.0"/>
  </joint>
  <joint name="neck_fixed_joint" type="fixed">
    <dynamics damping="0.1"/>
    <parent link="chest"/>
    <child link="neck_1"/>
    <axis xyz="1. 0. 0."/>
    <origin xyz="-0.00378849 0.0 0.1683" rpy="0.0 0.0 0.0"/>
  </joint>
  <joint name="neck_pitch" type="revolute">
    <dynamics damping="2.0" friction="0.0"/>
    <limit effort="50000.0" velocity="120.0" lower="-0.5235987755982988" upper="0.3839724354387525"/>
    <parent link="neck_1"/>
    <child link="neck_2"/>
    <axis xyz=" 0. -1.  0."/>
    <origin xyz="0.00865 0.0 0.049000000000000016" rpy="0.0 0.0 0.0"/>
  </joint>
  <joint name="neck_roll" type="revolute">
    <dynamics damping="2.0" friction="0.0"/>
    <limit effort="50000.0" velocity="120.0" lower="-0.3490658503988659" upper="0.3490658503988659"/>
    <parent link="neck_2"/>
    <child link="neck_3"/>
    <axis xyz="1. 0. 0."/>
    <origin xyz="0.0 0.0 0.009500499999999995" rpy="0.0 0.0 0.0"/>
  </joint>
  <joint name="neck_yaw" type="revolute">
    <dynamics damping="2.0" friction="0.0"/>
    <limit effort="50000.0" velocity="120.0" lower="-0.7853981633974483" upper="0.7853981633974483"/>
    <parent link="neck_3"/>
    <child link="head"/>
    <axis xyz="-1.62554992e-21 -1.09999837e-15  1.00000000e+00"/>
    <origin xyz="0.0 0.0 0.06915000000000002" rpy="0.0 0.0 0.0"/>
  </joint>
  <joint name="camera_tilt_joint" type="revolute">
    <dynamics damping="0.06" friction="0.0"/>
    <limit effort="50000.0" velocity="120.0" lower="-0.7853981633974483" upper="0.7853981633974483"/>
    <parent link="head"/>
    <child link="camera_tilt"/>
    <axis xyz="0. 0. 1."/>
    <origin xyz="0.055513 0.00017 0.076925" rpy="1.5708 3.1415 0.0"/>
  </joint>
  <joint name="lidar_joint" type="revolute">
    <dynamics damping="0.06" friction="0.0"/>
    <limit effort="50000.0" velocity="120.0" lower="-0.7853981633974483" upper="0.7853981633974483"/>
    <parent link="head"/>
    <child link="lidar"/>
    <axis xyz="0. 0. 1."/>
    <origin xyz="0.00117 0.00115 0.1268" rpy="0.0 0.0 0.0"/>
  </joint>
  <joint name="r_hip_pitch" type="revolute">
    <dynamics damping="2.0" friction="0.0"/>
    <limit effort="50000.0" velocity="120.0" lower="-0.7853981633974483" upper="2.007128639793479"/>
    <parent link="root_link"/>
    <child link="r_hip_1"/>
    <axis xyz=" 0. -1.  0."/>
    <origin xyz="0.0216 -0.040549999999999996 0.0" rpy="0.0 0.0 0.0"/>
  </joint>
  <joint name="r_hip_roll" type="revolute">
    <dynamics damping="2.0" friction="0.0"/>
    <limit effort="50000.0" velocity="120.0" lower="-0.17453292519943295" upper="2.007128639793479"/>
    <parent link="r_hip_1"/>
    <child link="r_hip_2"/>
    <axis xyz="-1.  0.  0."/>
    <origin xyz="-0.0473 -0.03310000000000001 -0.009000000000000008" rpy="0.0 0.0 0.0"/>
  </joint>
  <joint name="r_leg_ft_sensor" type="fixed">
    <dynamics damping="0.1"/>
    <parent link="r_hip_2"/>
    <child link="r_hip_3"/>
    <axis xyz="1. 0. 0."/>
    <origin xyz="0.036699999999999997 0.0 -0.08969999999999995" rpy="0.0 0.0 0.0"/>
  </joint>
  <joint name="r_hip_yaw" type="revolute">
    <dynamics damping="2.0" friction="0.0"/>
    <limit effort="50000.0" velocity="120.0" lower="-1.3962634015954636" upper="1.3962634015954636"/>
    <parent link="r_hip_3"/>
    <child link="r_upper_leg"/>
    <axis xyz=" 0.  0. -1."/>
    <origin xyz="0.0 0.015000000000000006 -0.07089999999999999" rpy="0.0 0.0 0.0"/>
  </joint>
  <joint name="r_knee" type="revolute">
    <dynamics damping="2.0" friction="0.0"/>
    <limit effort="50000.0" velocity="120.0" lower="-1.2217304763960306" upper="0.08726646259971647"/>
    <parent link="r_upper_leg"/>
    <child link="r_lower_leg"/>
    <axis xyz=" 0. -1.  0."/>
    <origin xyz="0.015000000000000003 -0.0249 -0.10619999999999999" rpy="0.0 0.0 0.0"/>
  </joint>
  <joint name="r_ankle_pitch" type="revolute">
    <dynamics damping="2.0" friction="0.0"/>
    <limit effort="50000.0" velocity="120.0" lower="-0.7853981633974483" upper="0.7853981633974483"/>
    <parent link="r_lower_leg"/>
    <child link="r_ankle_1"/>
    <axis xyz="0. 1. 0."/>
    <origin xyz="0.0 0.0005000000000000004 -0.255989" rpy="0.0 0.0 0.0"/>
  </joint>
  <joint name="r_ankle_roll" type="revolute">
    <dynamics damping="2.0" friction="0.0"/>
    <limit effort="50000.0" velocity="120.0" lower="-0.4363323129985824" upper="0.4363323129985824"/>
    <parent link="r_ankle_1"/>
    <child link="r_ankle_2"/>
    <axis xyz="-1.  0.  0."/>
    <origin xyz="-0.052750000000000005 0.018200000000000008 -0.03500000000000003" rpy="0.0 0.0 0.0"/>
  </joint>
  <joint name="r_foot_front_ft_sensor" type="fixed">
    <dynamics damping="0.1"/>
    <parent link="r_ankle_2"/>
    <child link="r_foot_front"/>
    <axis xyz="1. 0. 0."/>
    <origin xyz="0.13525 0.0 -0.06579999999999997" rpy="0.0 0.0 0.0"/>
  </joint>
  <joint name="r_foot_rear_ft_sensor" type="fixed">
    <dynamics damping="0.1"/>
    <parent link="r_ankle_2"/>
    <child link="r_foot_rear"/>
    <axis xyz="1. 0. 0."/>
    <origin xyz="0.016 0.0 -0.06579999999999997" rpy="0.0 0.0 0.0"/>
  </joint>
  <joint name="l_hip_pitch" type="revolute">
    <dynamics damping="2.0" friction="0.0"/>
    <limit effort="50000.0" velocity="120.0" lower="-0.7853981633974483" upper="2.007128639793479"/>
    <parent link="root_link"/>
    <child link="l_hip_1"/>
    <axis xyz=" 0. -1.  0."/>
    <origin xyz="0.0216 0.04045000000000001 0.0" rpy="0.0 0.0 0.0"/>
  </joint>
  <joint name="l_hip_roll" type="revolute">
    <dynamics damping="2.0" friction="0.0"/>
    <limit effort="50000.0" velocity="120.0" lower="-0.17453292519943295" upper="2.007128639793479"/>
    <parent link="l_hip_1"/>
    <child link="l_hip_2"/>
    <axis xyz="1. 0. 0."/>
    <origin xyz="-0.04725 0.0331 -0.009000000000000008" rpy="0.0 0.0 0.0"/>
  </joint>
  <joint name="l_leg_ft_sensor" type="fixed">
    <dynamics damping="0.1"/>
    <parent link="l_hip_2"/>
    <child link="l_hip_3"/>
    <axis xyz="1. 0. 0."/>
    <origin xyz="0.036699999999999997 0.0 -0.08969999999999995" rpy="0.0 0.0 0.0"/>
  </joint>
  <joint name="l_hip_yaw" type="revolute">
    <dynamics damping="2.0" friction="0.0"/>
    <limit effort="50000.0" velocity="120.0" lower="-1.3962634015954636" upper="1.3962634015954636"/>
    <parent link="l_hip_3"/>
    <child link="l_upper_leg"/>
    <axis xyz="0. 0. 1."/>
    <origin xyz="0.0 -0.015000000000000006 -0.07089999999999999" rpy="0.0 0.0 0.0"/>
  </joint>
  <joint name="l_knee" type="revolute">
    <dynamics damping="2.0" friction="0.0"/>
    <limit effort="50000.0" velocity="120.0" lower="-1.2217304763960306" upper="0.08726646259971647"/>
    <parent link="l_upper_leg"/>
    <child link="l_lower_leg"/>
    <axis xyz=" 0. -1.  0."/>
    <origin xyz="0.015 0.024900000000000012 -0.10619999999999999" rpy="0.0 0.0 0.0"/>
  </joint>
  <joint name="l_ankle_pitch" type="revolute">
    <dynamics damping="2.0" friction="0.0"/>
    <limit effort="50000.0" velocity="120.0" lower="-0.7853981633974483" upper="0.7853981633974483"/>
    <parent link="l_lower_leg"/>
    <child link="l_ankle_1"/>
    <axis xyz="0. 1. 0."/>
    <origin xyz="0.0 -0.0005000000000000004 -0.255989" rpy="0.0 0.0 0.0"/>
  </joint>
  <joint name="l_ankle_roll" type="revolute">
    <dynamics damping="2.0" friction="0.0"/>
    <limit effort="50000.0" velocity="120.0" lower="-0.4363323129985824" upper="0.4363323129985824"/>
    <parent link="l_ankle_1"/>
    <child link="l_ankle_2"/>
    <axis xyz="1. 0. 0."/>
    <origin xyz="-0.052750000000000005 -0.018200000000000008 -0.03500000000000003" rpy="0.0 0.0 0.0"/>
  </joint>
  <joint name="l_foot_rear_ft_sensor" type="fixed">
    <dynamics damping="0.1"/>
    <parent link="l_ankle_2"/>
    <child link="l_foot_rear"/>
    <axis xyz="1. 0. 0."/>
    <origin xyz="0.016 0.0 -0.06579999999999997" rpy="0.0 0.0 0.0"/>
  </joint>
  <joint name="l_foot_front_ft_sensor" type="fixed">
    <dynamics damping="0.1"/>
    <parent link="l_ankle_2"/>
    <child link="l_foot_front"/>
    <axis xyz="1. 0. 0."/>
    <origin xyz="0.13524999999999998 0.0 -0.06579999999999997" rpy="0.0 0.0 0.0"/>
  </joint>
  <joint name="l_sole_fixed_joint" type="fixed">
    <dynamics damping="0.1"/>
    <parent link="l_foot_rear"/>
    <child link="l_sole"/>
    <axis xyz="1. 0. 0."/>
    <origin xyz="0.05963 0.0 0.0" rpy="0.0 0.0 0.0"/>
  </joint>
  <joint name="r_sole_fixed_joint" type="fixed">
    <dynamics damping="0.1"/>
    <parent link="r_foot_rear"/>
    <child link="r_sole"/>
    <axis xyz="1. 0. 0."/>
    <origin xyz="0.05963000000000001 0.0 0.0" rpy="0.0 0.0 0.0"/>
  </joint>
  <joint name="base_link_fixed_joint" type="fixed">
    <parent link="root_link"/>
    <child link="base_link"/>
    <axis xyz="0 0 0"/>
    <origin xyz="0.0 0.0 0.0" rpy="0.0 -0.0 0.0"/>
  </joint>
  <joint name="imu_frame_fixed_joint" type="fixed">
    <dynamics damping="0.1"/>
    <parent link="head"/>
    <child link="imu_frame"/>
    <axis xyz="1. 0. 0."/>
    <origin xyz="0.0034999999997785457 0.0054999999863750895 0.1013340000004441" rpy="-3.141592653589793 0.0 -1.570796326794897"/>
  </joint>
  <material name="green">
    <color rgba="0. 1. 0. 1."/>
  </material>
  <material name="black">
    <color rgba="0. 0. 0. 1."/>
  </material>
  <material name="red">
    <color rgba="1. 0. 0. 1."/>
  </material>
  <material name="blue">
    <color rgba="0. 0. 1. 1."/>
  </material>
  <material name="yellow">
    <color rgba="1. 1. 0. 1."/>
  </material>
  <material name="pink">
    <color rgba="1. 0. 1. 1."/>
  </material>
  <material name="cyan">
    <color rgba="0. 1. 1. 1."/>
  </material>
  <material name="white">
    <color rgba="1. 1. 1. 1."/>
  </material>
  <material name="dblue">
    <color rgba="0.  0.  0.8 1. "/>
  </material>
  <material name="dgreen">
    <color rgba="0.1 0.8 0.1 1. "/>
  </material>
  <material name="gray">
    <color rgba="0.5 0.5 0.5 1. "/>
  </material>
 <gazebo reference="r_arm_ft_sensor">
    <preserveFixedJoint>true</preserveFixedJoint>
    <disableFixedJointLumping>true</disableFixedJointLumping>
  </gazebo>
  <gazebo reference="l_arm_ft_sensor">
    <preserveFixedJoint>true</preserveFixedJoint>
    <disableFixedJointLumping>true</disableFixedJointLumping>
  </gazebo>
  <gazebo>
    <plugin name="controlboard_torso" filename="libgazebo_yarp_controlboard.so">
      <yarpConfigurationFile>model://iCub/conf_stickBot/gazebo_icub_torso/gazebo_icub_torso.ini</yarpConfigurationFile>
    </plugin>
  </gazebo>
  <gazebo reference="torso_pitch">
    <implicitSpringDamper>1</implicitSpringDamper>
  </gazebo>
  <gazebo reference="torso_roll">
    <implicitSpringDamper>1</implicitSpringDamper>
  </gazebo>
  <gazebo reference="torso_yaw">
    <implicitSpringDamper>1</implicitSpringDamper>
  </gazebo>
  <gazebo reference="r_shoulder_pitch">
    <implicitSpringDamper>1</implicitSpringDamper>
  </gazebo>
  <gazebo reference="r_shoulder_roll">
    <implicitSpringDamper>1</implicitSpringDamper>
  </gazebo>
  <gazebo reference="r_shoulder_yaw">
    <implicitSpringDamper>1</implicitSpringDamper>
  </gazebo>
  <gazebo reference="l_shoulder_pitch">
    <implicitSpringDamper>1</implicitSpringDamper>
  </gazebo>
  <gazebo reference="l_shoulder_roll">
    <implicitSpringDamper>1</implicitSpringDamper>
  </gazebo>
  <gazebo reference="l_shoulder_yaw">
    <implicitSpringDamper>1</implicitSpringDamper>
  </gazebo>
  <gazebo reference="l_leg_ft_sensor">
    <preserveFixedJoint>true</preserveFixedJoint>
    <disableFixedJointLumping>true</disableFixedJointLumping>
  </gazebo>
  <gazebo reference="l_foot_front_ft_sensor">
    <preserveFixedJoint>true</preserveFixedJoint>
    <disableFixedJointLumping>true</disableFixedJointLumping>
  </gazebo>
  <gazebo reference="l_foot_rear_ft_sensor">
    <preserveFixedJoint>true</preserveFixedJoint>
    <disableFixedJointLumping>true</disableFixedJointLumping>
  </gazebo>
  <gazebo reference="l_foot_front">
    <collision>
      <surface>
        <bounce>
          <restitution_coefficient>0</restitution_coefficient>
          <threshold>100000</threshold>
        </bounce>
      </surface>
    </collision>
    <maxContacts>4</maxContacts>
    <kp>18000000</kp>
    <kd>100</kd>
    <maxVel>100</maxVel>
    <minDepth>0.0001</minDepth>
    <mu1>1</mu1>
    <mu2>1</mu2>
    <fdir1>0 0 0</fdir1>
  </gazebo>
  <gazebo reference="l_foot_rear">
    <collision>
      <surface>
        <bounce>
          <restitution_coefficient>0</restitution_coefficient>
          <threshold>100000</threshold>
        </bounce>
      </surface>
    </collision>
    <maxContacts>4</maxContacts>
    <kp>18000000</kp>
    <kd>100</kd>
    <maxVel>100</maxVel>
    <minDepth>0.0001</minDepth>
    <mu1>1</mu1>
    <mu2>1</mu2>
    <fdir1>0 0 0</fdir1>
  </gazebo>
  <gazebo>
    <plugin name="controlboard_left_leg" filename="libgazebo_yarp_controlboard.so">
      <yarpConfigurationFile>model://iCub/conf_stickBot/gazebo_icub_left_leg/gazebo_icub_left_leg.ini</yarpConfigurationFile>
    </plugin>
  </gazebo>
  <gazebo reference="l_hip_pitch">
    <implicitSpringDamper>1</implicitSpringDamper>
  </gazebo>
  <gazebo reference="l_hip_roll">
    <implicitSpringDamper>1</implicitSpringDamper>
  </gazebo>
  <gazebo reference="l_hip_yaw">
    <implicitSpringDamper>1</implicitSpringDamper>
  </gazebo>
  <gazebo reference="l_knee">
    <implicitSpringDamper>1</implicitSpringDamper>
  </gazebo>
  <gazebo reference="l_ankle_pitch">
    <implicitSpringDamper>1</implicitSpringDamper>
  </gazebo>
  <gazebo reference="l_ankle_roll">
    <implicitSpringDamper>1</implicitSpringDamper>
  </gazebo>
  <gazebo reference="r_leg_ft_sensor">
    <preserveFixedJoint>true</preserveFixedJoint>
    <disableFixedJointLumping>true</disableFixedJointLumping>
  </gazebo>
  <gazebo reference="r_foot_front_ft_sensor">
    <preserveFixedJoint>true</preserveFixedJoint>
    <disableFixedJointLumping>true</disableFixedJointLumping>
  </gazebo>
  <gazebo reference="r_foot_rear_ft_sensor">
    <preserveFixedJoint>true</preserveFixedJoint>
    <disableFixedJointLumping>true</disableFixedJointLumping>
  </gazebo>
  <gazebo reference="r_foot_front">
    <collision>
      <surface>
        <bounce>
          <restitution_coefficient>0</restitution_coefficient>
          <threshold>100000</threshold>
        </bounce>
      </surface>
    </collision>
    <maxContacts>4</maxContacts>
    <kp>18000000</kp>
    <kd>100</kd>
    <maxVel>100</maxVel>
    <minDepth>0.0001</minDepth>
    <mu1>1</mu1>
    <mu2>1</mu2>
    <fdir1>0 0 0</fdir1>
  </gazebo>
  <gazebo reference="r_foot_rear">
    <collision>
      <surface>
        <bounce>
          <restitution_coefficient>0</restitution_coefficient>
          <threshold>100000</threshold>
        </bounce>
      </surface>
    </collision>
    <maxContacts>4</maxContacts>
    <kp>18000000</kp>
    <kd>100</kd>
    <maxVel>100</maxVel>
    <minDepth>0.0001</minDepth>
    <mu1>1</mu1>
    <mu2>1</mu2>
    <fdir1>0 0 0</fdir1>
  </gazebo>
  <gazebo>
    <plugin name="controlboard_right_leg" filename="libgazebo_yarp_controlboard.so">
      <yarpConfigurationFile>model://iCub/conf_stickBot/gazebo_icub_right_leg/gazebo_icub_right_leg.ini</yarpConfigurationFile>
    </plugin>
  </gazebo>
  <gazebo reference="r_hip_pitch">
    <implicitSpringDamper>1</implicitSpringDamper>
  </gazebo>
  <gazebo reference="r_hip_roll">
    <implicitSpringDamper>1</implicitSpringDamper>
  </gazebo>
  <gazebo reference="r_hip_yaw">
    <implicitSpringDamper>1</implicitSpringDamper>
  </gazebo>
  <gazebo reference="r_knee">
    <implicitSpringDamper>1</implicitSpringDamper>
  </gazebo>
  <gazebo reference="r_ankle_pitch">
    <implicitSpringDamper>1</implicitSpringDamper>
  </gazebo>
  <gazebo reference="r_ankle_roll">
    <implicitSpringDamper>1</implicitSpringDamper>
  </gazebo>
  <gazebo>
    <plugin name="controlboard_head_without_eyes" filename="libgazebo_yarp_controlboard.so">
      <yarpConfigurationFile>model://iCub/conf_stickBot/gazebo_icub_head_without_eyes_V2_7/gazebo_icub_head_without_eyes_V2_7.ini</yarpConfigurationFile>
    </plugin>
  </gazebo>
  <gazebo reference="neck_pitch">
    <implicitSpringDamper>1</implicitSpringDamper>
  </gazebo>
  <gazebo reference="neck_roll">
    <implicitSpringDamper>1</implicitSpringDamper>
  </gazebo>
  <gazebo reference="neck_yaw">
    <implicitSpringDamper>1</implicitSpringDamper>
  </gazebo>
  <gazebo>
    <plugin name="controlboard_left_arm_no_hand" filename="libgazebo_yarp_controlboard.so">
      <yarpConfigurationFile>model://iCub/conf_stickBot/gazebo_icub_left_arm_no_hand_for_no_hand_model/gazebo_icub_left_arm_no_hand_for_no_hand_model.ini</yarpConfigurationFile>
      <initialConfiguration>-0.52 0.52 0 0.785 0 0 0.0</initialConfiguration>
    </plugin>
  </gazebo>
  <gazebo reference="l_shoulder_pitch">
    <implicitSpringDamper>1</implicitSpringDamper>
  </gazebo>
  <gazebo reference="l_shoulder_roll">
    <implicitSpringDamper>1</implicitSpringDamper>
  </gazebo>
  <gazebo reference="l_shoulder_yaw">
    <implicitSpringDamper>1</implicitSpringDamper>
  </gazebo>
  <gazebo reference="l_elbow">
    <implicitSpringDamper>1</implicitSpringDamper>
  </gazebo>
  <gazebo reference="l_wrist_prosup">
    <implicitSpringDamper>1</implicitSpringDamper>
  </gazebo>
  <gazebo reference="l_wrist_pitch">
    <implicitSpringDamper>1</implicitSpringDamper>
  </gazebo>
  <gazebo reference="l_wrist_yaw">
    <implicitSpringDamper>1</implicitSpringDamper>
  </gazebo>
  <gazebo>
    <plugin name="controlboard_right_arm_no_hand" filename="libgazebo_yarp_controlboard.so">
      <yarpConfigurationFile>model://iCub/conf_stickBot/gazebo_icub_right_arm_no_hand_for_no_hand_model/gazebo_icub_right_arm_no_hand_for_no_hand_model.ini</yarpConfigurationFile>
      <initialConfiguration>-0.52 0.52 0 0.785 0 0 0.0</initialConfiguration>
    </plugin>
  </gazebo>
  <gazebo reference="r_shoulder_pitch">
    <implicitSpringDamper>1</implicitSpringDamper>
  </gazebo>
  <gazebo reference="r_shoulder_roll">
    <implicitSpringDamper>1</implicitSpringDamper>
  </gazebo>
  <gazebo reference="r_shoulder_yaw">
    <implicitSpringDamper>1</implicitSpringDamper>
  </gazebo>
  <gazebo reference="r_elbow">
    <implicitSpringDamper>1</implicitSpringDamper>
  </gazebo>
  <gazebo reference="r_wrist_prosup">
    <implicitSpringDamper>1</implicitSpringDamper>
  </gazebo>
  <gazebo reference="r_wrist_pitch">
    <implicitSpringDamper>1</implicitSpringDamper>
  </gazebo>
  <gazebo reference="r_wrist_yaw">
    <implicitSpringDamper>1</implicitSpringDamper>
  </gazebo>
  <gazebo reference="l_arm_ft_sensor">
    <sensor name="l_arm_ft_sensor" type="force_torque">
      <always_on>1</always_on>
      <update_rate>100</update_rate>
      <force_torque>
        <frame>sensor</frame>
        <measure_direction>child_to_parent</measure_direction>
      </force_torque>
      <pose>-0.004350133156978329 3.632573233880443e-07 -0.05430003872406172 3.141592646862139 -3.104683320142575e-08 -1.5707962571980942</pose>
      <plugin name="left_arm_ft_plugin" filename="libgazebo_yarp_forcetorque.so">
        <yarpConfigurationString>(yarpDeviceName left_upper_arm_strain) (disableImplicitNetworkWrapper)</yarpConfigurationString>
      </plugin>
    </sensor>
  </gazebo>
  <sensor name="l_arm_ft_sensor" type="force_torque">
    <parent joint="l_arm_ft_sensor"/>
    <force_torque>
      <frame>sensor</frame>
      <measure_direction>child_to_parent</measure_direction>
    </force_torque>
    <origin rpy="3.141592646862139 -3.104683320142575e-08 -1.5707962571980942" xyz="-0.004350133156978329 3.632573233880443e-07 -0.05430003872406172"/>
  </sensor>
  <gazebo reference="r_arm_ft_sensor">
    <sensor name="r_arm_ft_sensor" type="force_torque">
      <always_on>1</always_on>
      <update_rate>100</update_rate>
      <force_torque>
        <frame>sensor</frame>
        <measure_direction>child_to_parent</measure_direction>
      </force_torque>
      <pose>-0.006849946385389875 2.1904996055921444e-07 -0.05429998157789099 3.141592644717707 4.094299285979593e-08 1.5707964185756365</pose>
      <plugin name="right_arm_ft_plugin" filename="libgazebo_yarp_forcetorque.so">
        <yarpConfigurationString>(yarpDeviceName right_upper_arm_strain) (disableImplicitNetworkWrapper)</yarpConfigurationString>
      </plugin>
    </sensor>
  </gazebo>
  <sensor name="r_arm_ft_sensor" type="force_torque">
    <parent joint="r_arm_ft_sensor"/>
    <force_torque>
      <frame>sensor</frame>
      <measure_direction>child_to_parent</measure_direction>
    </force_torque>
    <origin rpy="3.141592644717707 4.094299285979593e-08 1.5707964185756365" xyz="-0.006849946385389875 2.1904996055921444e-07 -0.05429998157789099"/>
  </sensor>
  <gazebo reference="l_foot_front_ft_sensor">
    <sensor name="l_foot_front_ft_sensor" type="force_torque">
      <always_on>1</always_on>
      <update_rate>100</update_rate>
      <force_torque>
        <frame>sensor</frame>
        <measure_direction>parent_to_child</measure_direction>
      </force_torque>
      <pose>0.0 0.0 0.022299999999999986 0.0 -0.0 -2.094395210586932</pose>
      <plugin name="left_foot_front_ft_plugin" filename="libgazebo_yarp_forcetorque.so">
        <yarpConfigurationString>(yarpDeviceName left_lower_leg_front_strain) (disableImplicitNetworkWrapper)</yarpConfigurationString>
      </plugin>
    </sensor>
  </gazebo>
  <sensor name="l_foot_front_ft_sensor" type="force_torque">
    <parent joint="l_foot_front_ft_sensor"/>
    <force_torque>
      <frame>sensor</frame>
      <measure_direction>parent_to_child</measure_direction>
    </force_torque>
    <origin rpy="0.0 -0.0 -2.094395210586932" xyz="0.0 0.0 0.022299999999999986"/>
  </sensor>
  <gazebo reference="l_foot_rear_ft_sensor">
    <sensor name="l_foot_rear_ft_sensor" type="force_torque">
      <always_on>1</always_on>
      <update_rate>100</update_rate>
      <force_torque>
        <frame>sensor</frame>
        <measure_direction>parent_to_child</measure_direction>
      </force_torque>
      <pose>0.0 0.0 0.022299999999999986 0.0 -0.0 -2.094395210586932</pose>
      <plugin name="left_foot_rear_ft_plugin" filename="libgazebo_yarp_forcetorque.so">
        <yarpConfigurationString>(yarpDeviceName left_lower_leg_rear_strain) (disableImplicitNetworkWrapper)</yarpConfigurationString>
      </plugin>
    </sensor>
  </gazebo>
  <sensor name="l_foot_rear_ft_sensor" type="force_torque">
    <parent joint="l_foot_rear_ft_sensor"/>
    <force_torque>
      <frame>sensor</frame>
      <measure_direction>parent_to_child</measure_direction>
    </force_torque>
    <origin rpy="0.0 -0.0 -2.094395210586932" xyz="0.0 0.0 0.022299999999999986"/>
  </sensor>
  <gazebo reference="r_foot_front_ft_sensor">
    <sensor name="r_foot_front_ft_sensor" type="force_torque">
      <always_on>1</always_on>
      <update_rate>100</update_rate>
      <force_torque>
        <frame>sensor</frame>
        <measure_direction>parent_to_child</measure_direction>
      </force_torque>
      <pose>0.0 0.0 0.022299999999999986 0.0 -0.0 -2.094395210586932</pose>
      <plugin name="right_foot_front_ft_plugin" filename="libgazebo_yarp_forcetorque.so">
        <yarpConfigurationString>(yarpDeviceName right_lower_leg_front_strain) (disableImplicitNetworkWrapper)</yarpConfigurationString>
      </plugin>
    </sensor>
  </gazebo>
  <sensor name="r_foot_front_ft_sensor" type="force_torque">
    <parent joint="r_foot_front_ft_sensor"/>
    <force_torque>
      <frame>sensor</frame>
      <measure_direction>parent_to_child</measure_direction>
    </force_torque>
    <origin rpy="0.0 -0.0 -2.094395210586932" xyz="0.0 0.0 0.022299999999999986"/>
  </sensor>
  <gazebo reference="r_foot_rear_ft_sensor">
    <sensor name="r_foot_rear_ft_sensor" type="force_torque">
      <always_on>1</always_on>
      <update_rate>100</update_rate>
      <force_torque>
        <frame>sensor</frame>
        <measure_direction>parent_to_child</measure_direction>
      </force_torque>
      <pose>0.0 0.0 0.022299999999999986 0.0 -0.0 -2.094395210586932</pose>
      <plugin name="right_foot_rear_ft_plugin" filename="libgazebo_yarp_forcetorque.so">
        <yarpConfigurationString>(yarpDeviceName right_lower_leg_rear_strain) (disableImplicitNetworkWrapper)</yarpConfigurationString>
      </plugin>
    </sensor>
  </gazebo>
  <sensor name="r_foot_rear_ft_sensor" type="force_torque">
    <parent joint="r_foot_rear_ft_sensor"/>
    <force_torque>
      <frame>sensor</frame>
      <measure_direction>parent_to_child</measure_direction>
    </force_torque>
    <origin rpy="0.0 -0.0 -2.094395210586932" xyz="0.0 0.0 0.022299999999999986"/>
  </sensor>
  <gazebo reference="head">
    <sensor name="head_imu_acc_1x1" type="imu">
      <always_on>1</always_on>
      <update_rate>100</update_rate>
      <pose>0.0034999999997785457 0.0054999999863750895 0.1013340000004441 -3.141592653589793 -4.20000162559822e-15 -1.570796326794897</pose>
      <plugin name="iCub_yarp_gazebo_plugin_IMU" filename="libgazebo_yarp_imu.so">
        <yarpConfigurationString>(yarpDeviceName head-inertial) (disableImplicitNetworkWrapper)</yarpConfigurationString>
      </plugin>
    </sensor>
  </gazebo>
  <sensor name="head_imu_acc_1x1" type="accelerometer">
    <parent link="head"/>
    <origin rpy="-3.141592653589793 -4.20000162559822e-15 -1.570796326794897" xyz="0.0034999999997785457 0.0054999999863750895 0.1013340000004441"/>
  </sensor>

  <gazebo reference="camera_tilt">
    <sensor name="realsense_head_rgbd" type="depth">
      <always_on>1</always_on>
      <update_rate>30</update_rate>
      <pose>-0.0113 0.0 0.0 0.0 -1.57079 0.0</pose>
      <camera name="intel_realsense_rgbd_camera">
        <pose>0 0 0 -1.57079 -1.57079 3.14159</pose>
        <horizontal_fov>2.1</horizontal_fov>
        <distortion>
          <k1>0</k1>
          <k2>0</k2>
          <k3>0</k3>
          <p1>0</p1>
          <p2>0</p2>
          <center>319.5 239.5</center>
        </distortion>
        <image>
          <width>640</width>
          <height>480</height>
          <format>R8G8B8</format>
        </image>
        <clip>
          <near>0.02</near>
          <far>3000</far>
        </clip>
      </camera>
      <visualize>false</visualize>
      <plugin name="depth_camera_plugin" filename="libgazebo_yarp_depthCamera.so">
        <yarpConfigurationFile>model://iCub/conf_stickBot/gazebo_icub_rgbd_camera_eyes/gazebo_icub_rgbd_camera_eyes.ini</yarpConfigurationFile>
      </plugin>
    </sensor>
  </gazebo>
  <sensor name="realsense_head_rgbd" type="camera">
    <parent link="camera_tilt"/>
    <origin rpy="0.0 -1.57079 0.0" xyz="-0.0113 0.0 0.0"/>
  </sensor>

 <!-- <gazebo reference="lidar">
    <sensor name="lasersensor_head" type="ray">
        <always_on>1</always_on>
        <update_rate>40</update_rate>
        <pose frame=''>0.0 0.0 0.0105 0.0 0.0 0.0</pose>
        <visualize>true</visualize>
        <ray>
          <scan>
            <horizontal>
              <samples>360</samples>
              <resolution>2</resolution>
              <min_angle>0</min_angle>
              <max_angle>6.28</max_angle>
            </horizontal>
          </scan>
          <range>
            <min>0.04</min>
            <max>5</max>
            <resolution>0.01</resolution>
          </range>
          <noise>
            <type>gaussian</type>
            <mean>0</mean>
            <stddev>0.005</stddev>
          </noise>
        </ray>
      <plugin name="lasersensor" filename="libgazebo_yarp_lasersensor.so">
        <yarpConfigurationFile>model://iCub/conf_stickBot/gazebo_icub_laser/gazebo_icub_laser.ini</yarpConfigurationFile>
      </plugin>
    </sensor>
  </gazebo>
  <sensor name="lasersensor_head" type="ray">
    <parent link="lidar"/>
    <origin rpy="0.0 0.0 0.0" xyz="0.0 0.0 0.0105"/>
  </sensor> -->

  <gazebo reference="chest">
    <sensor name="chest_imu_acc_1x1" type="imu">
      <always_on>1</always_on>
      <update_rate>100</update_rate>
      <pose>0.0894115 0.0175 0.09929950000000001 -1.5707963267948968 -0.0 -1.5707963267948968</pose>
      <plugin name="iCub_yarp_gazebo_plugin_IMU" filename="libgazebo_yarp_imu.so">
        <yarpConfigurationString>(yarpDeviceName chest-inertial) (disableImplicitNetworkWrapper)</yarpConfigurationString>
      </plugin>
    </sensor>
  </gazebo>
  <sensor name="chest_imu_acc_1x1" type="accelerometer">
    <parent link="chest"/>
    <origin rpy="-1.5707963267948968 -0.0 -1.5707963267948968" xyz="0.0894115 0.0175 0.09929950000000001"/>
  </sensor>
  <gazebo>
      <plugin name="robotinterface" filename="libgazebo_yarp_robotinterface.so">
      <yarpRobotInterfaceConfigurationFile>model://iCub/conf_stickBot/icub.xml</yarpRobotInterfaceConfigurationFile>
    </plugin>
  </gazebo>
  <gazebo>
    <pose>0.0 0.0 0.64 0.0 0.0 0.0</pose>
  </gazebo>
</robot>
